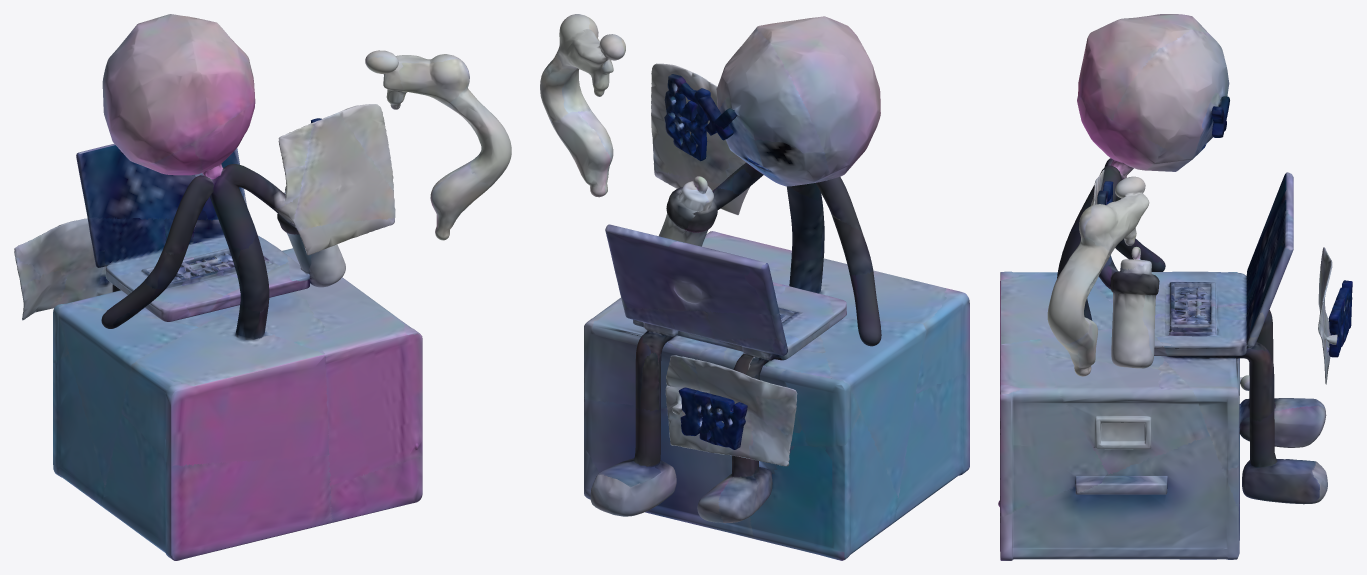
Rendered from player_ship.glb.
3 renders of one model, left to right at view 1: azimuth 30°, elevation 25°; view 2: azimuth 150°, elevation 25°; view 3: azimuth 270°, elevation 25°, orthographic. The views are drawn at different scales.
Parts seen in each view (by area): view 1: tripo_node_c3ecbf61-c6b3-4583-9b15-ccd296917640; view 2: tripo_node_c3ecbf61-c6b3-4583-9b15-ccd296917640; view 3: tripo_node_c3ecbf61-c6b3-4583-9b15-ccd296917640.
Part boxes in pixels (x1,y1,x2,y2): tripo_node_c3ecbf61-c6b3-4583-9b15-ccd296917640: (14, 14, 511, 560); tripo_node_c3ecbf61-c6b3-4583-9b15-ccd296917640: (540, 14, 969, 560); tripo_node_c3ecbf61-c6b3-4583-9b15-ccd296917640: (998, 14, 1352, 560).
Size of the model in its own units: 0.8481 by 0.9999 by 0.6978.
Materials: 1 (1 with a texture image).
